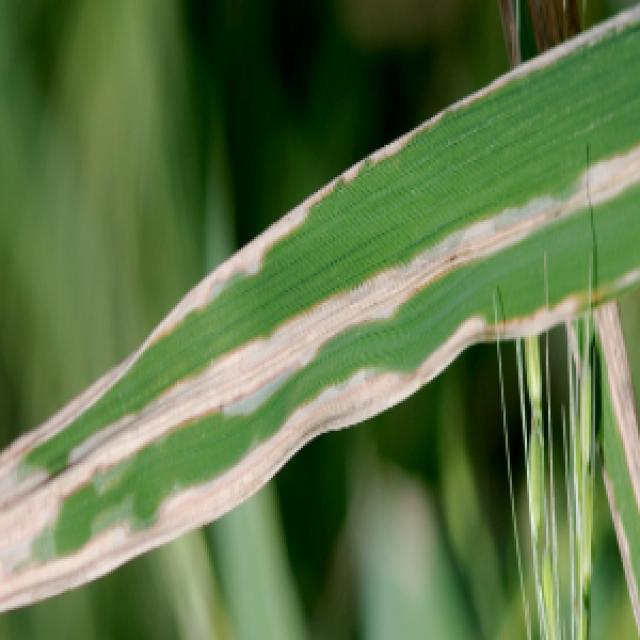Rice: (258, 371, 421, 489), (0, 399, 67, 607), (66, 380, 188, 491), (408, 197, 565, 274), (185, 337, 318, 418), (363, 89, 482, 169), (283, 270, 426, 335), (67, 516, 172, 584), (172, 458, 257, 536), (225, 202, 318, 272), (422, 303, 489, 397), (576, 143, 640, 215), (481, 43, 571, 89), (162, 267, 222, 331), (568, 7, 638, 47), (304, 167, 371, 205)
